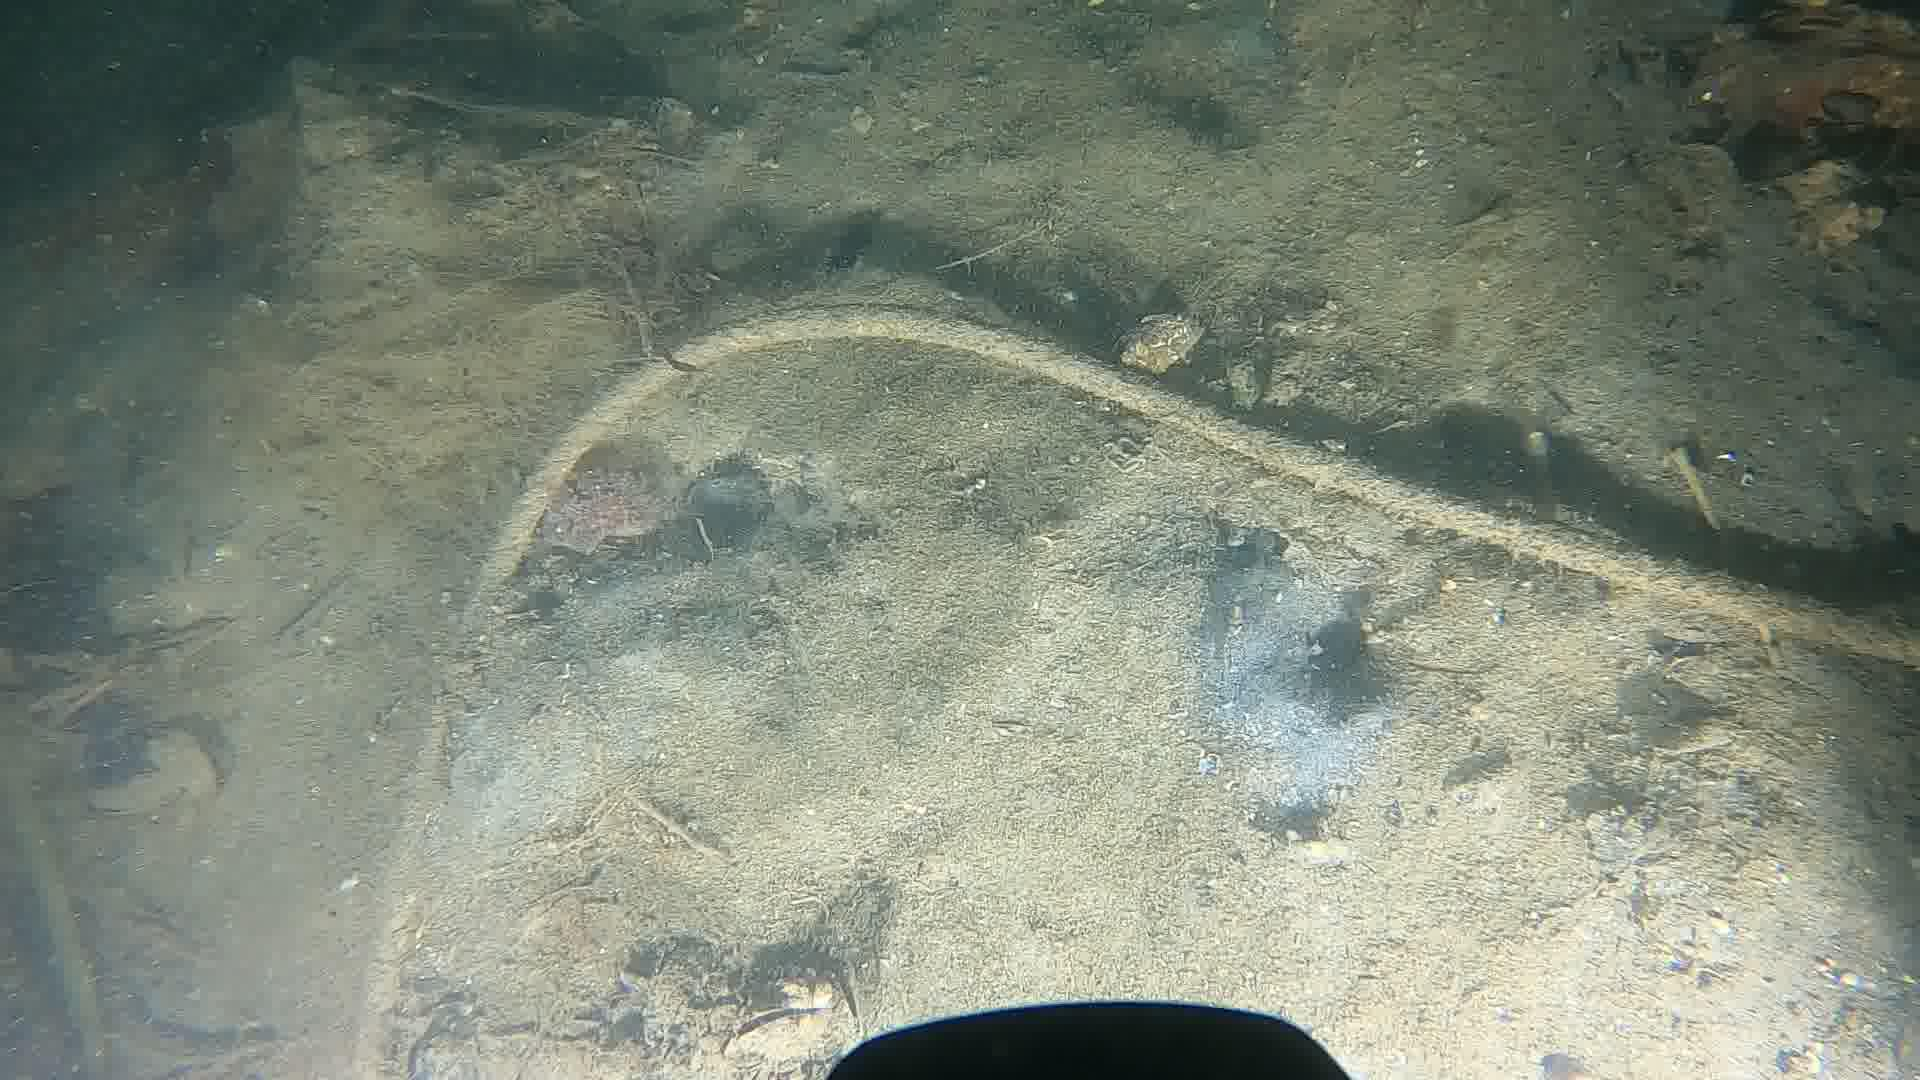rope: (349, 299, 1917, 1080)
